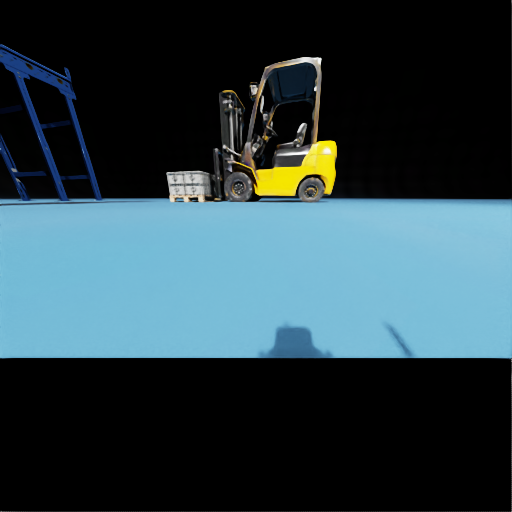transportation_area: (185, 184, 214, 194), (14, 57, 15, 58)
